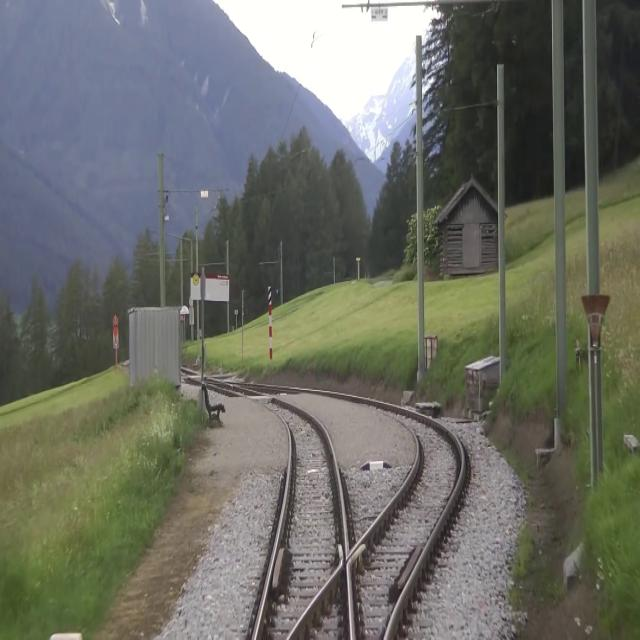rail-track: (351, 405, 459, 639), (257, 398, 344, 639), (292, 567, 350, 639), (313, 394, 346, 399)
